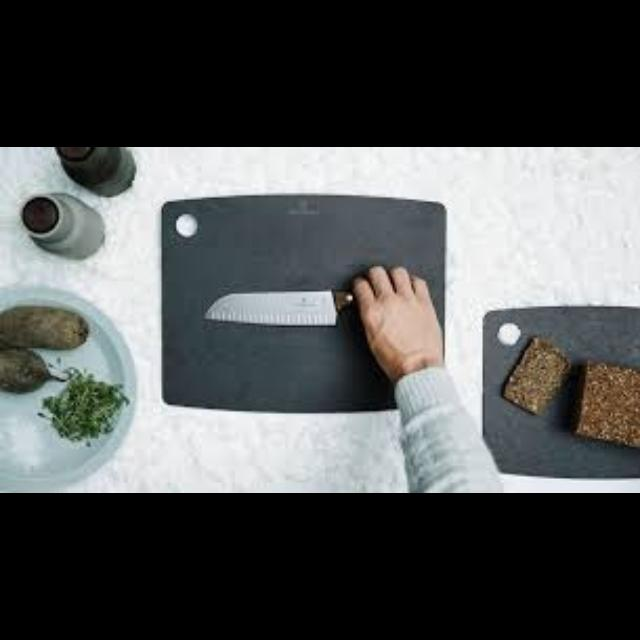knife: (332, 243, 510, 492), (202, 288, 354, 324)
